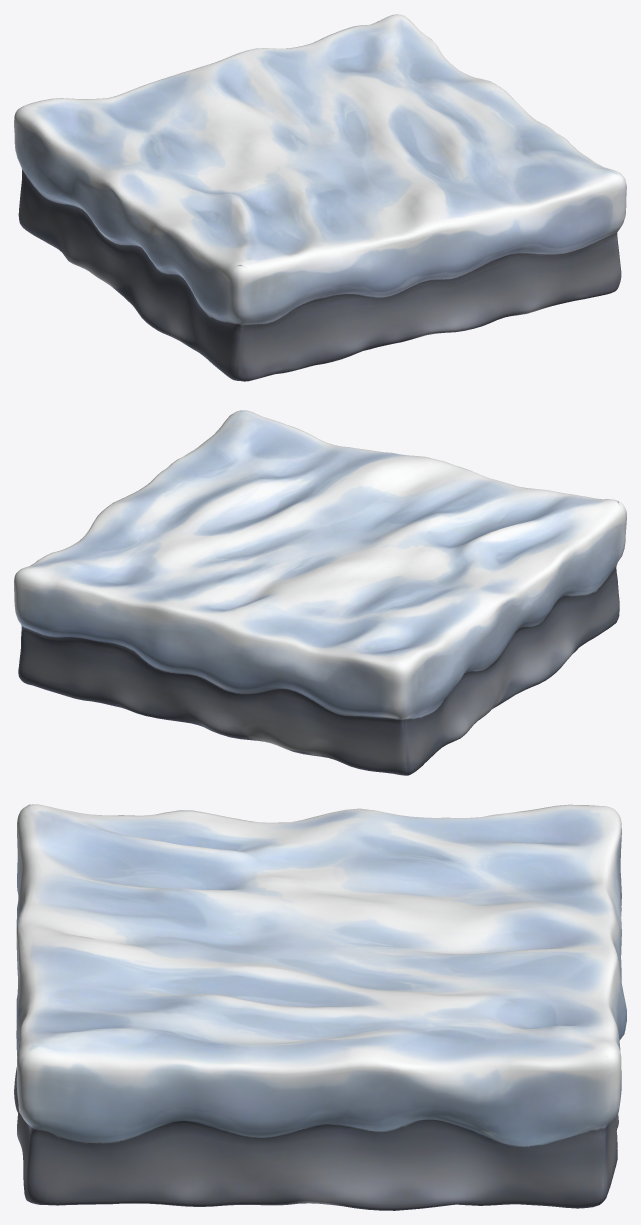
Rendered from Meshy_AI_Snow_tile_1221054102_texture.fbx.
The picture shows the model from 3 angles, top to bottom: view 1: azimuth 30°, elevation 25°; view 2: azimuth 150°, elevation 25°; view 3: azimuth 270°, elevation 25°; orthographic projection. The views are drawn at different scales.
Parts seen in each view (by area): view 1: Mesh0; view 2: Mesh0; view 3: Mesh0.
Boxes of the visible parts, x1,y1,x2,y2 form: Mesh0: [14, 14, 626, 381]; Mesh0: [14, 410, 626, 775]; Mesh0: [14, 804, 626, 1210].
Size of the model in its own units: 190 by 54.51 by 190.
1 material, 1 textured.
